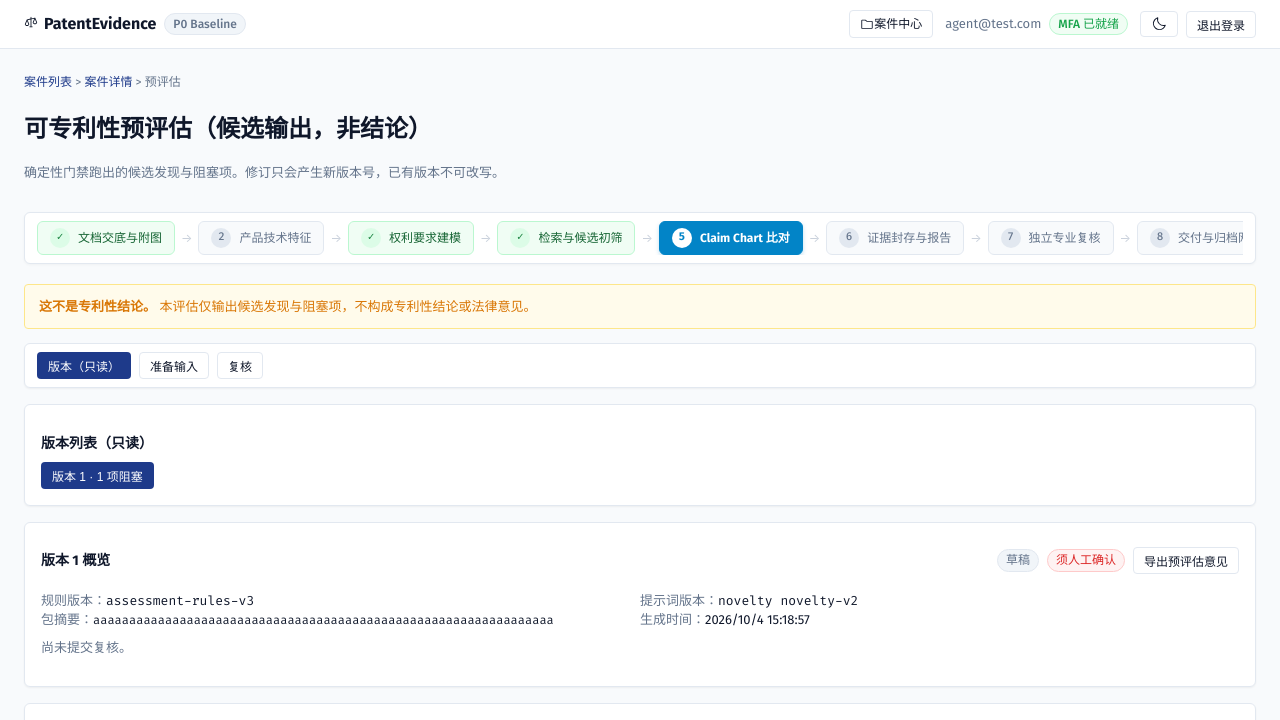
Pre-assessment Web Surface › exports a candidate-only deliverable and never presents it as a conclusion
Click the button "导出预评估意见": [1186, 561] box [1133,547,1239,574]
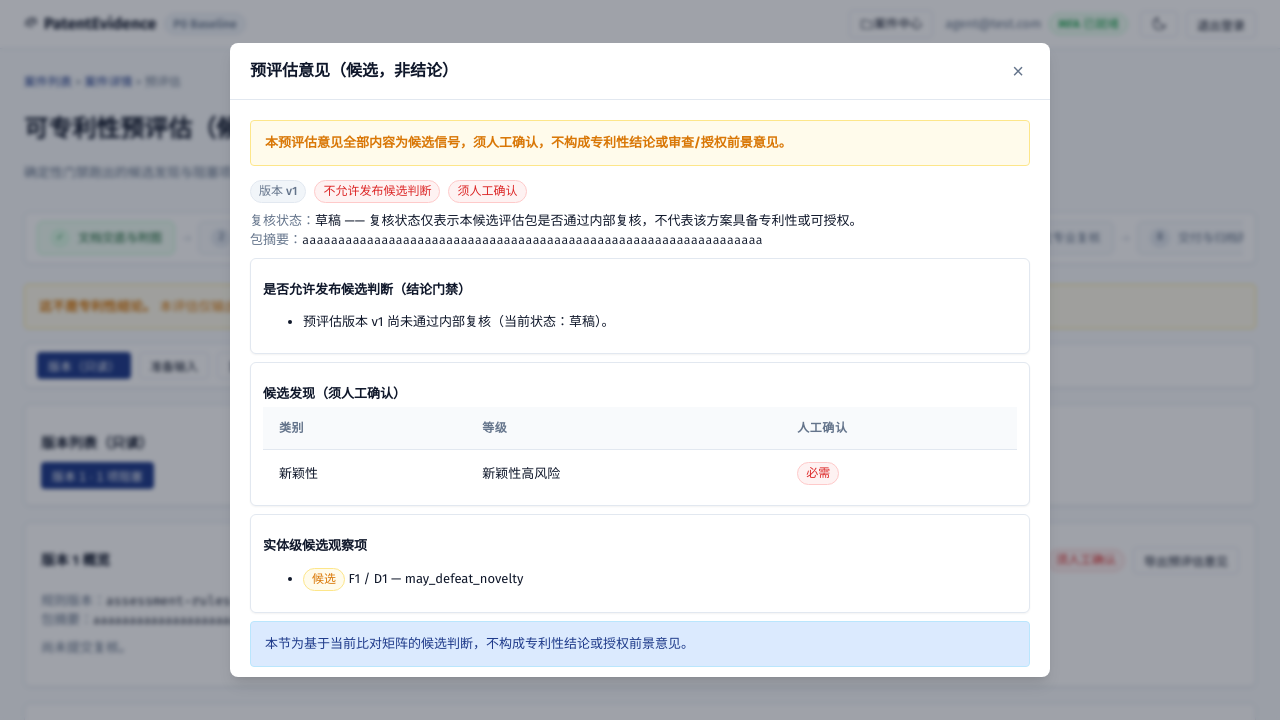
Now the heading "预评估意见（候选，非结论）" is shown, box [250,59,458,83]
Now the text "本预评估意见全部内容为候选信号，须人工确认，不构成专利性结论或审查/授权前景意见。" is shown, box [265,135,792,150]
Now the text "不允许发布候选判断" is shown, box [314,180,440,202]
